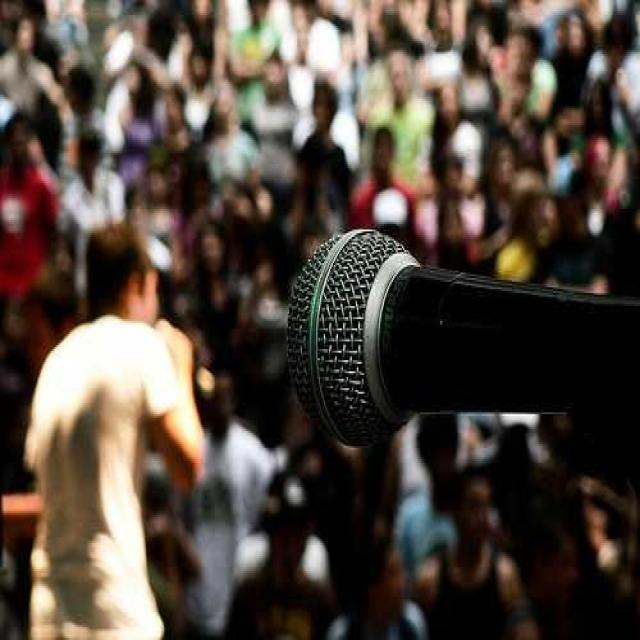microphone: (285, 223, 631, 463), (167, 325, 224, 403)
